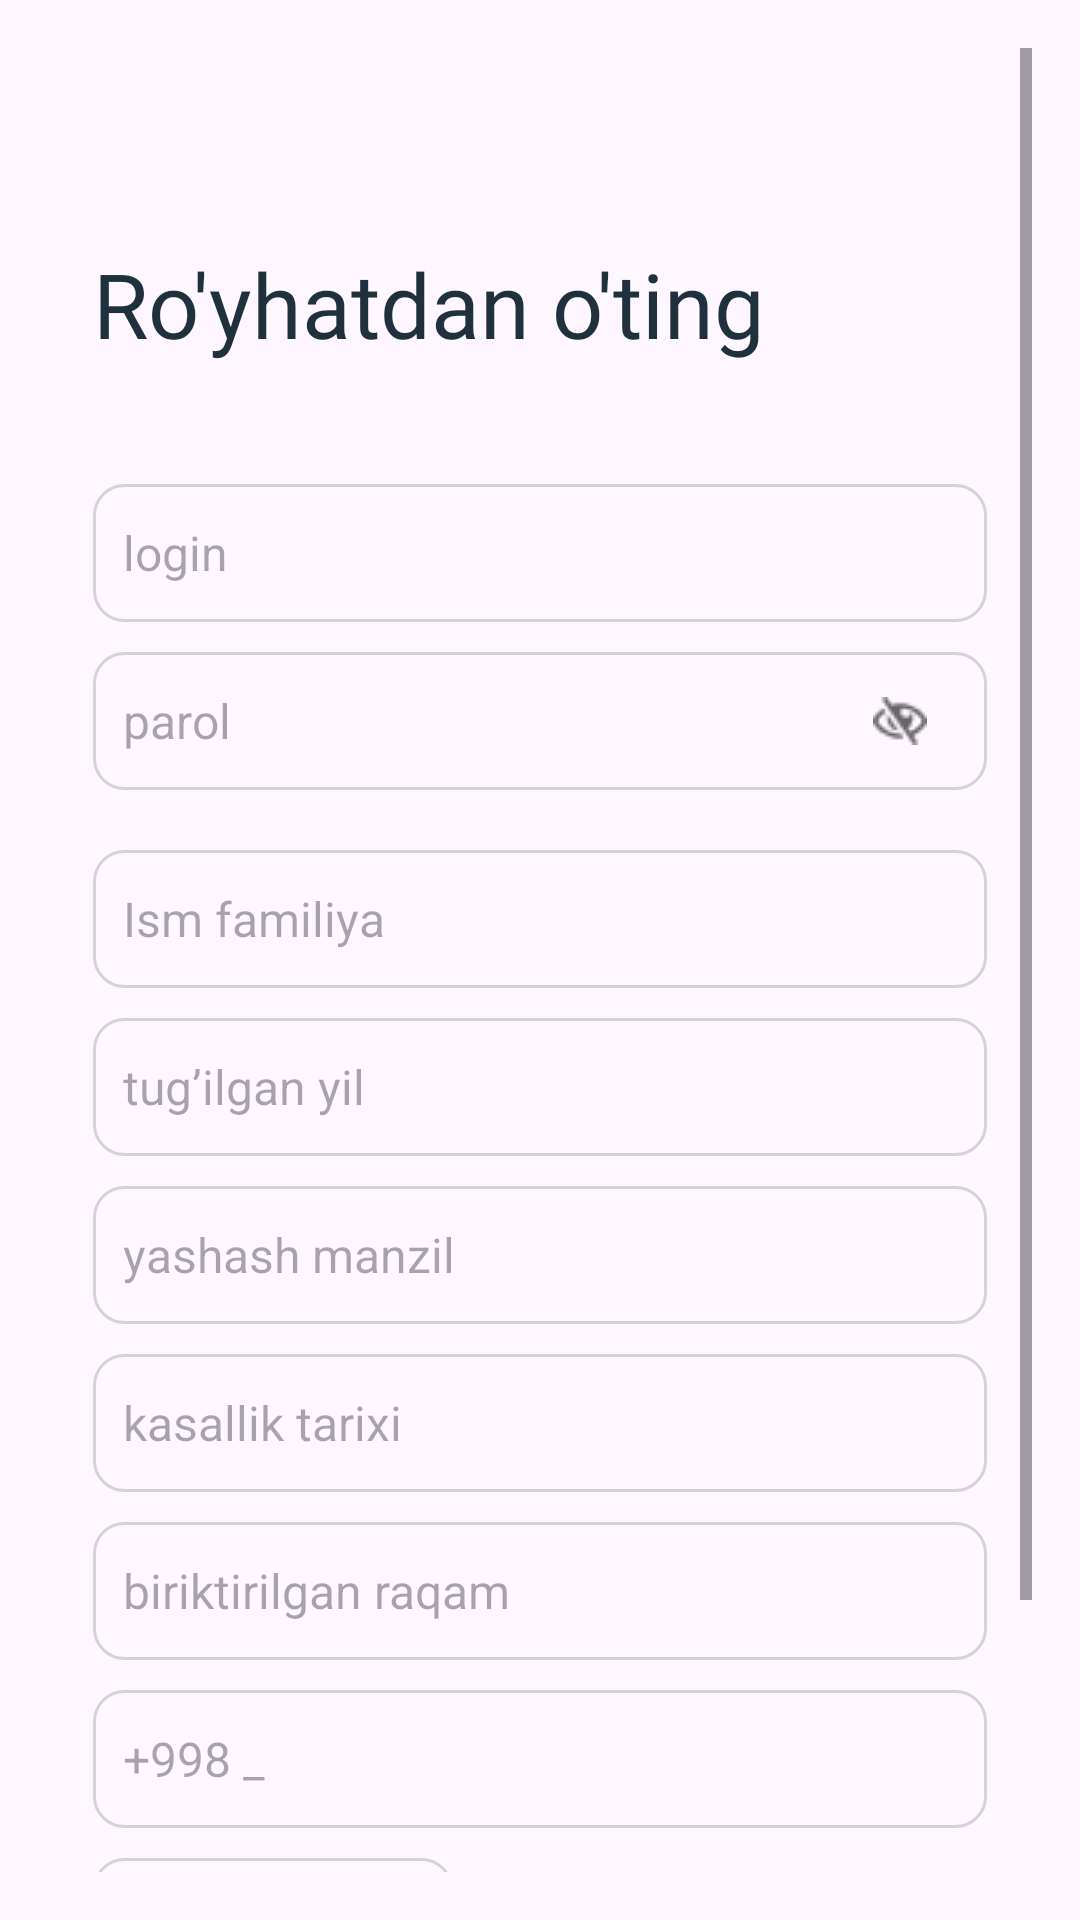

Locate icon controls on the screen. Image size 1080 x 1920, boxes as [x1, y1, x2, y2].
password: [873, 697, 927, 745]
